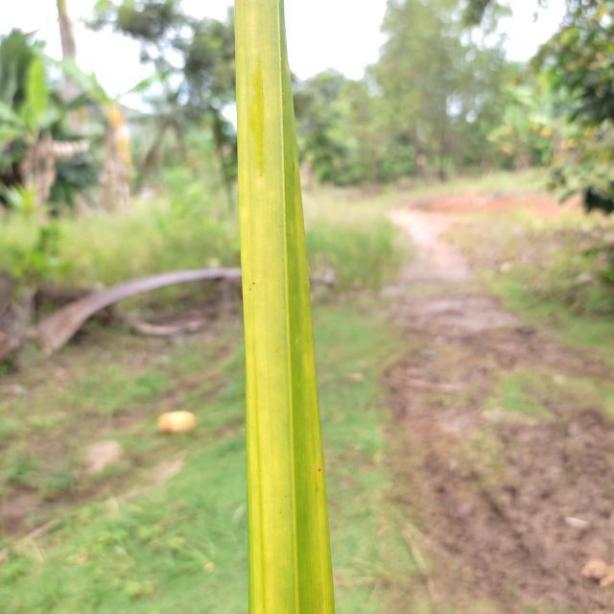nitrogen: (232, 0, 337, 614)
